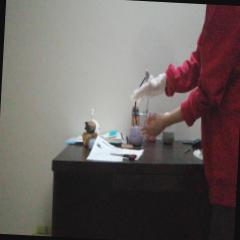gloved: (130, 70, 164, 106)
not-gloved: (140, 113, 170, 136)
